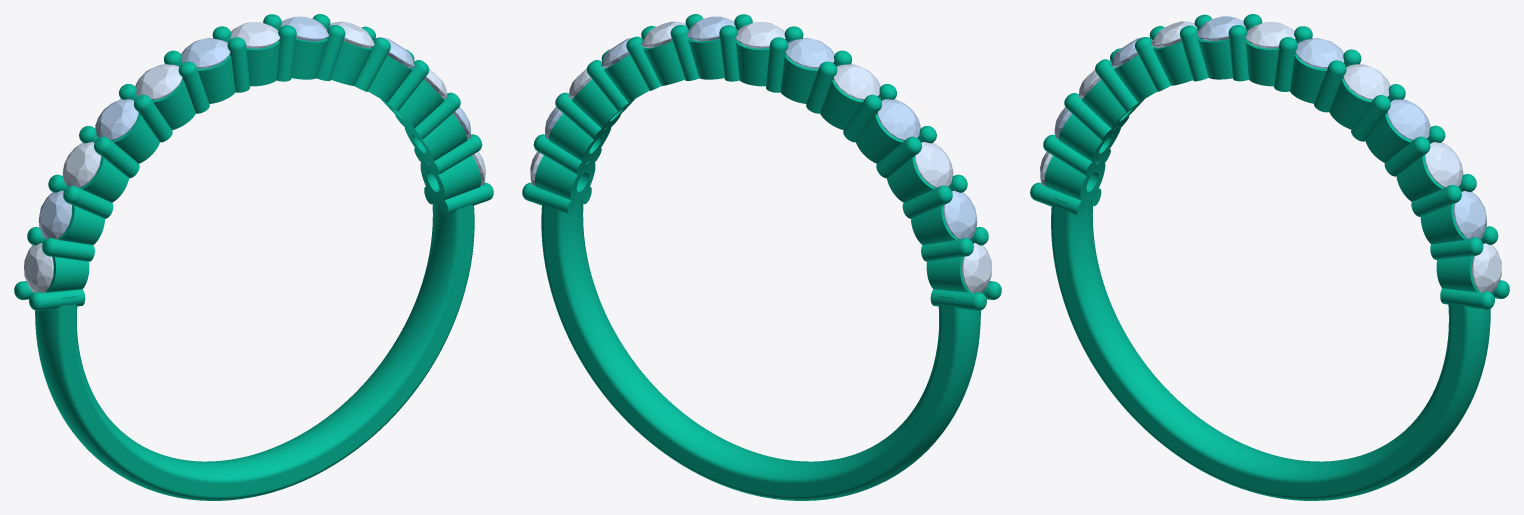
3 views of the same model, side by side, from view 1: azimuth 30°, elevation 25°; view 2: azimuth 150°, elevation 25°; view 3: azimuth 330°, elevation 25° (orthographic).
Visible parts, largest first — view 1: VR-60(3)(front).3dm, Bezel (×13), Head Prong (×14), Diamond_Round (×9); view 2: VR-60(3)(front).3dm, Bezel (×13), Head Prong (×14), Diamond_Round (×9); view 3: VR-60(3)(front).3dm, Bezel (×13), Head Prong (×14), Diamond_Round (×9).
Boxes of the visible parts, x1,y1,x2,y2 form: VR-60(3)(front).3dm: [35, 200, 474, 500]; Bezel (×13): [45, 38, 481, 292]; Head Prong (×14): [29, 25, 493, 310]; Diamond_Round (×9): [24, 16, 374, 292]; VR-60(3)(front).3dm: [541, 200, 980, 500]; Bezel (×13): [534, 38, 970, 292]; Head Prong (×14): [522, 25, 986, 310]; Diamond_Round (×9): [641, 16, 991, 292]; VR-60(3)(front).3dm: [1051, 197, 1490, 500]; Bezel (×13): [1044, 37, 1479, 292]; Head Prong (×14): [1030, 25, 1494, 309]; Diamond_Round (×9): [1151, 16, 1501, 292].
Size of the model in its own units: 2.87 by 2.77 by 0.2767.
